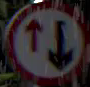Two way: (5, 3, 85, 86)
